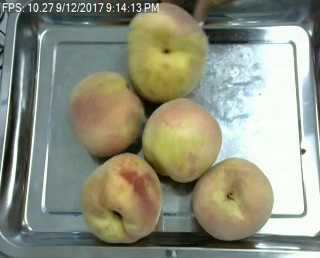Peach: (126, 2, 206, 101), (82, 153, 165, 245), (141, 96, 222, 183), (193, 156, 275, 241), (69, 70, 144, 157)
